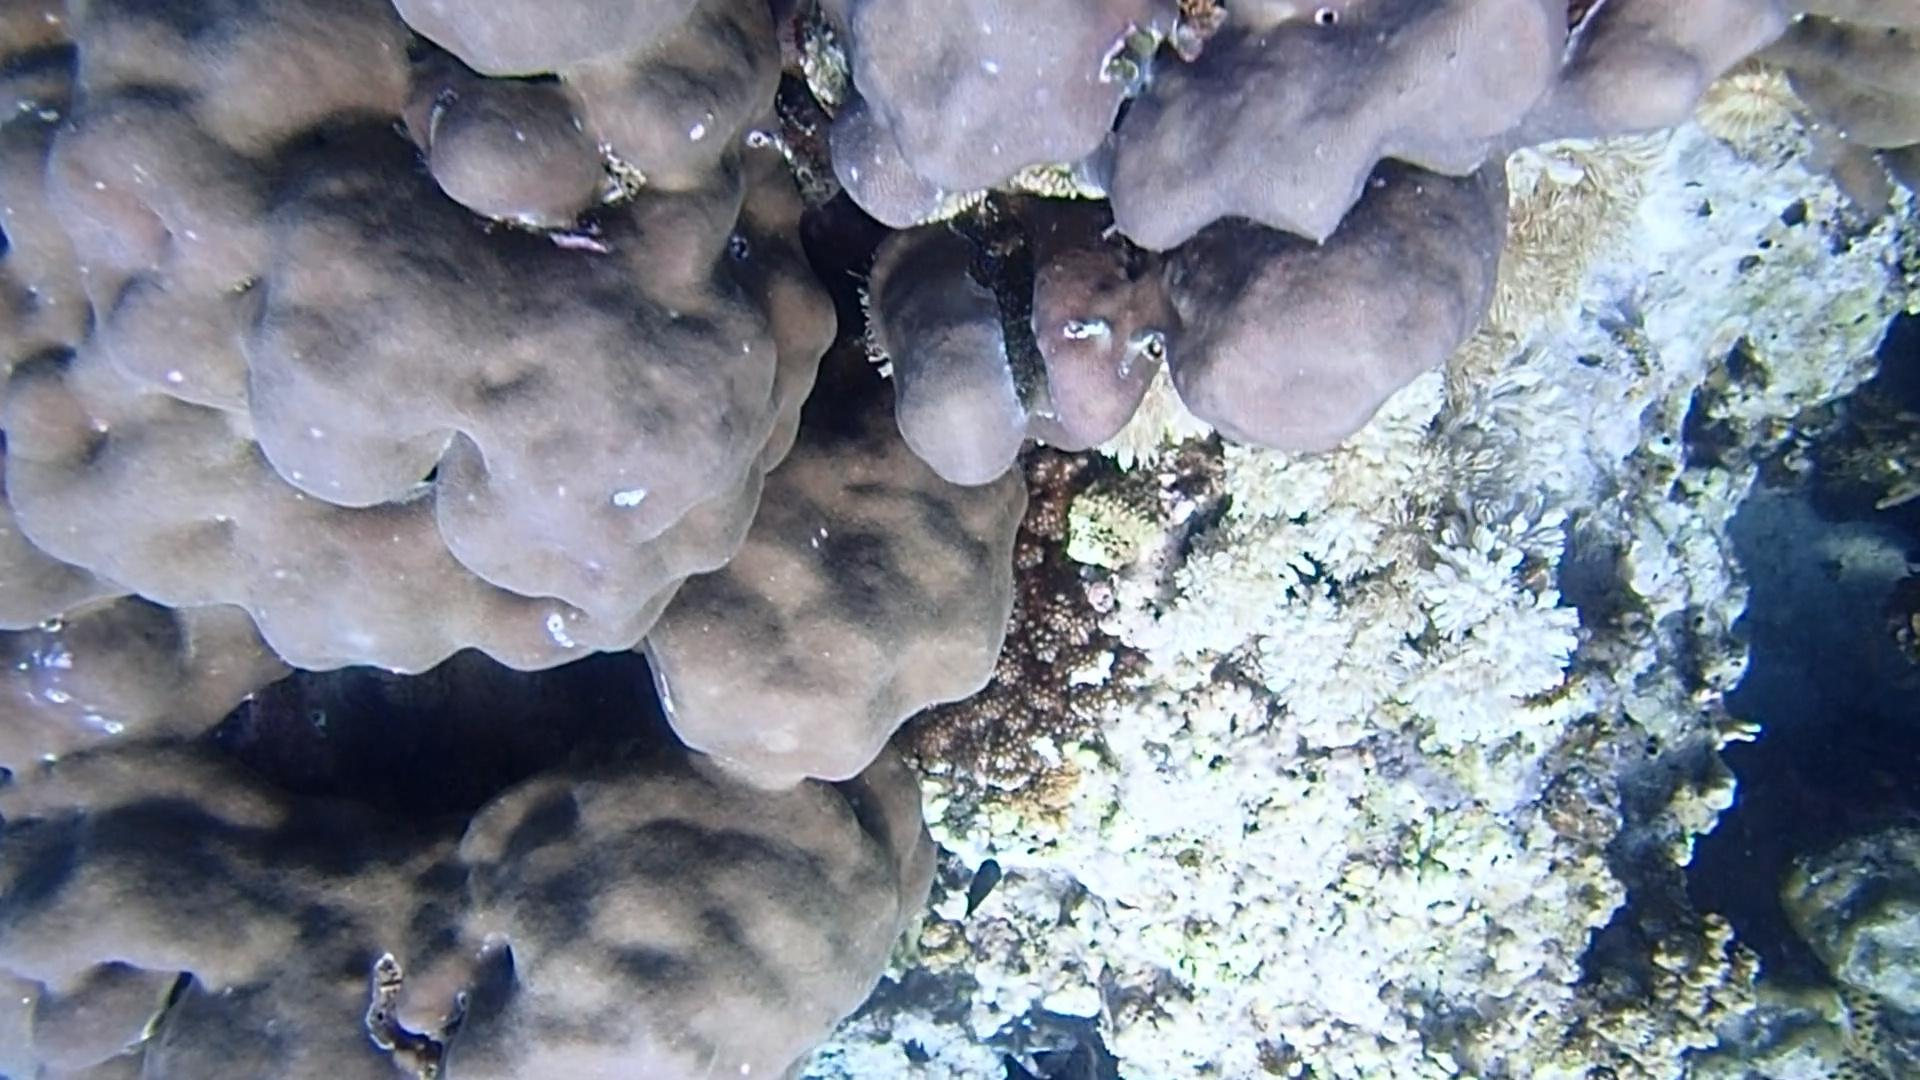Dark Fish: (956, 851, 1006, 924), (895, 1034, 935, 1069)
